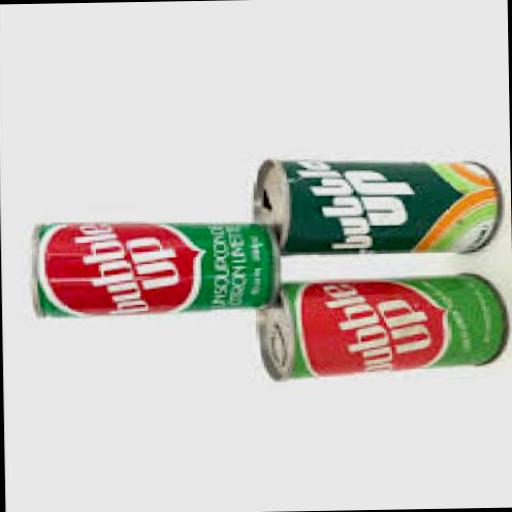metal: (252, 274, 507, 384), (25, 224, 278, 324), (246, 158, 496, 256)
